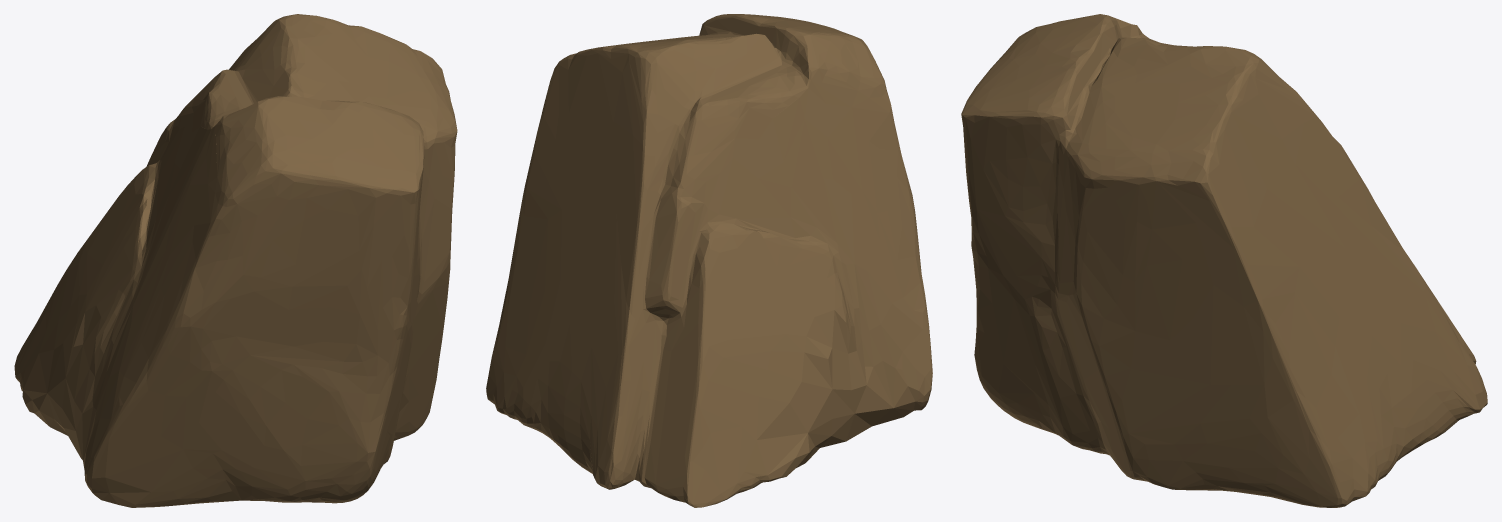
3 views of the same model, side by side, from view 1: azimuth 30°, elevation 25°; view 2: azimuth 150°, elevation 25°; view 3: azimuth 270°, elevation 25° (orthographic). The views are drawn at different scales.
Visible parts, largest first — view 1: SM_Cliff_Bottom_Rock_02_LOD0; view 2: SM_Cliff_Bottom_Rock_02_LOD0; view 3: SM_Cliff_Bottom_Rock_02_LOD0.
Part boxes in pixels (bbox=[...]): SM_Cliff_Bottom_Rock_02_LOD0: bbox=[14, 14, 457, 507]; SM_Cliff_Bottom_Rock_02_LOD0: bbox=[486, 14, 932, 507]; SM_Cliff_Bottom_Rock_02_LOD0: bbox=[961, 14, 1487, 507].
Size of the model in its own units: 2.66 by 2.52 by 3.07.
